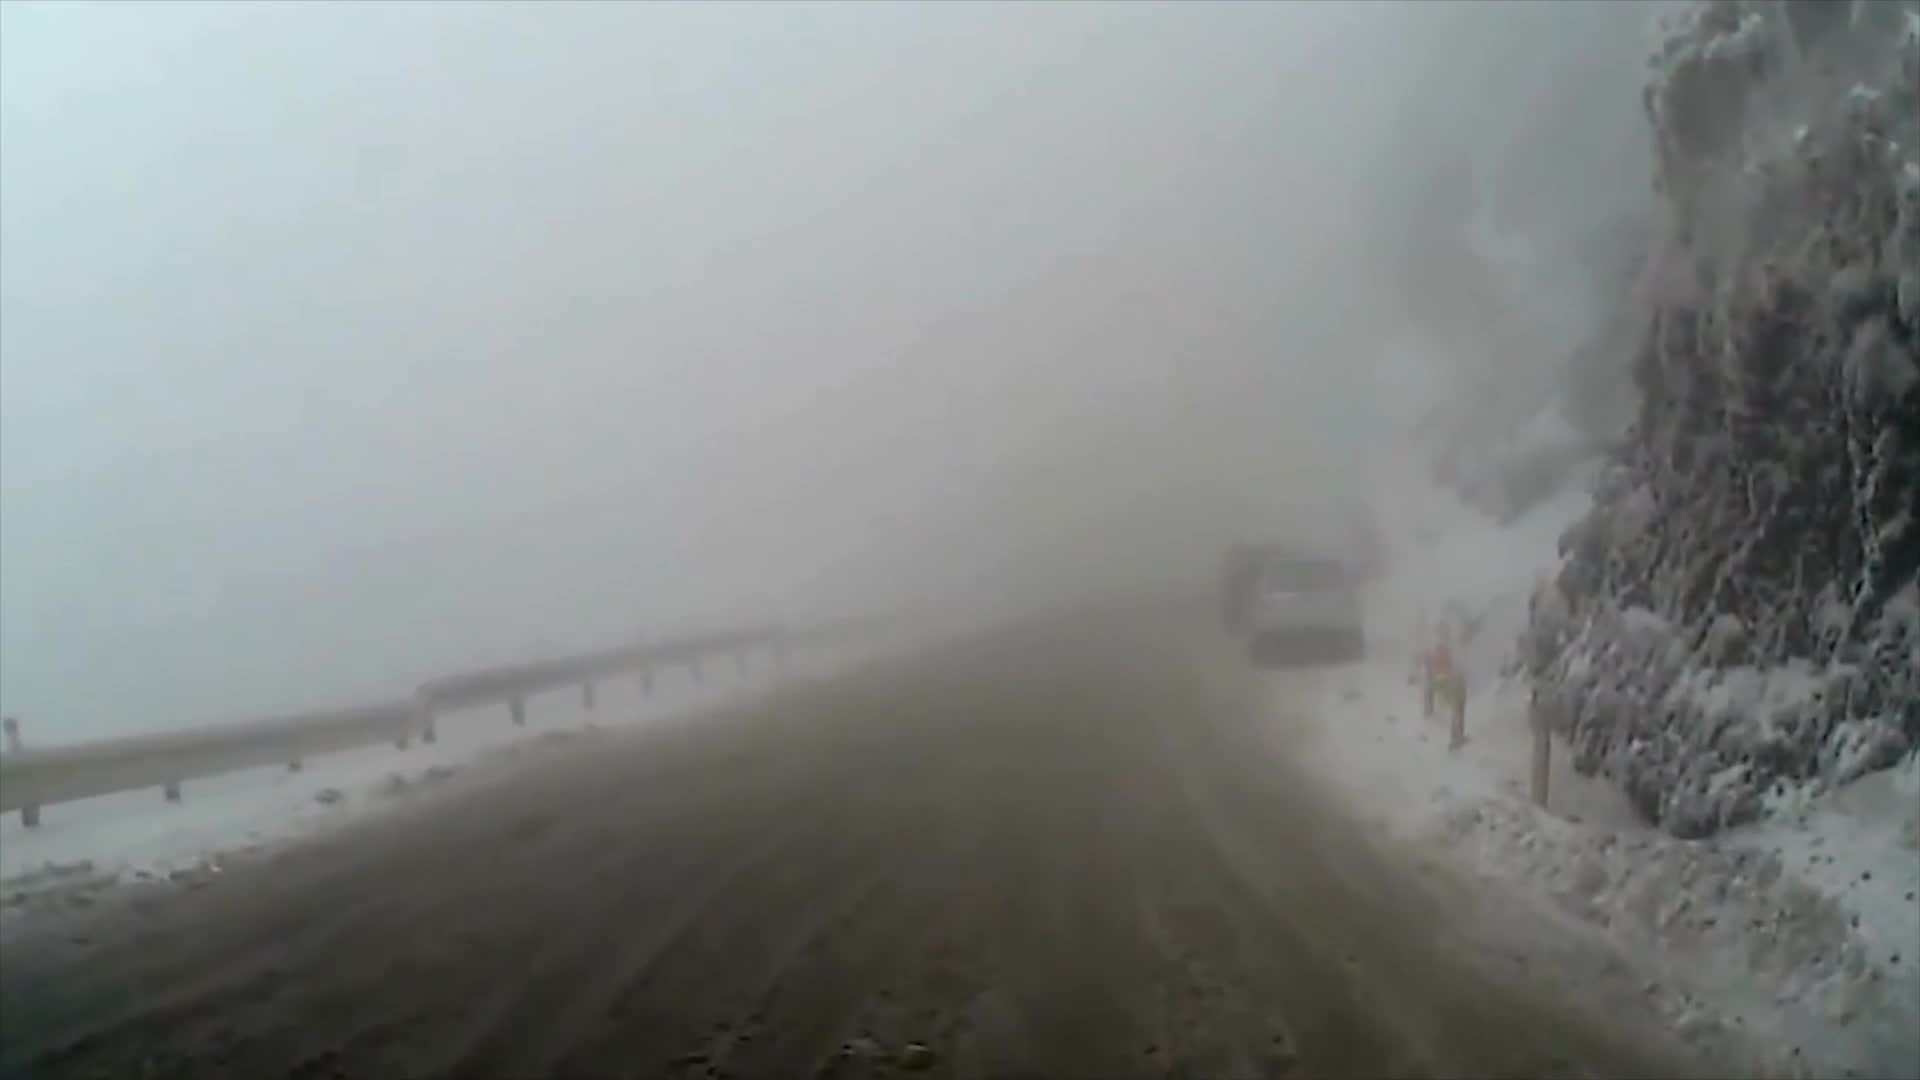vehicle: (1247, 549, 1364, 663)
